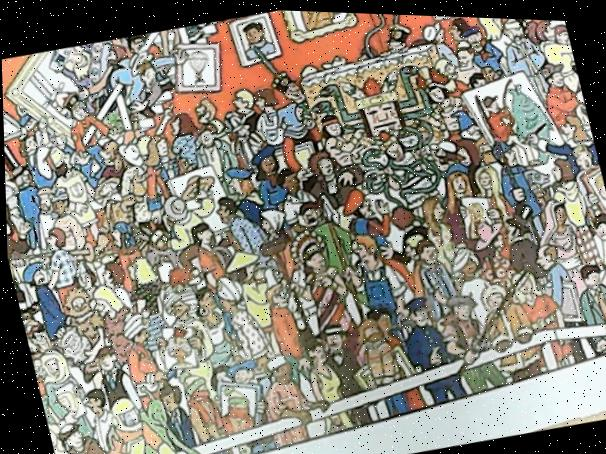waldo: (21, 318, 47, 355)
